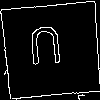U: (26, 25, 65, 75)
